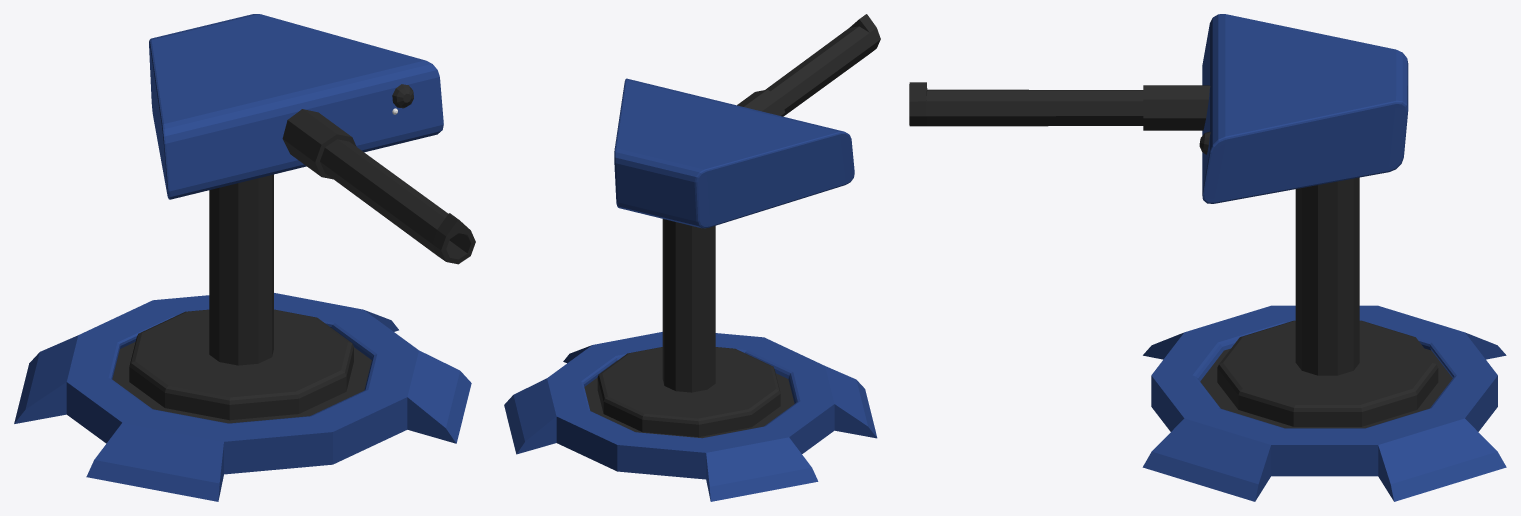
The model's file is singleTurretUpgrade.fbx.
3 renders of one model, left to right at view 1: azimuth 30°, elevation 25°; view 2: azimuth 150°, elevation 25°; view 3: azimuth 270°, elevation 25°, orthographic. The views are drawn at different scales.
Parts seen in each view (by area): view 1: FirstUpgradeTurret; view 2: FirstUpgradeTurret; view 3: FirstUpgradeTurret.
Boxes of the visible parts, x1,y1,x2,y2 form: FirstUpgradeTurret: (14, 14, 475, 501); FirstUpgradeTurret: (504, 14, 880, 501); FirstUpgradeTurret: (909, 14, 1506, 501).
Size of the model in its own units: 61.77 by 53.54 by 86.2.
